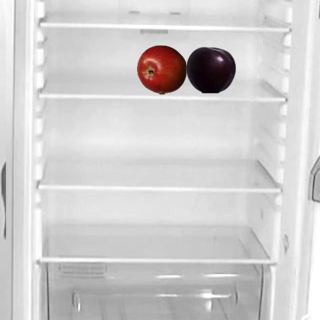Apple Braeburn: (136, 44, 186, 94)
Cherry Wax Black: (185, 44, 235, 94)
